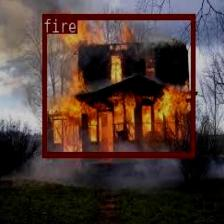fire: (42, 14, 194, 156)
